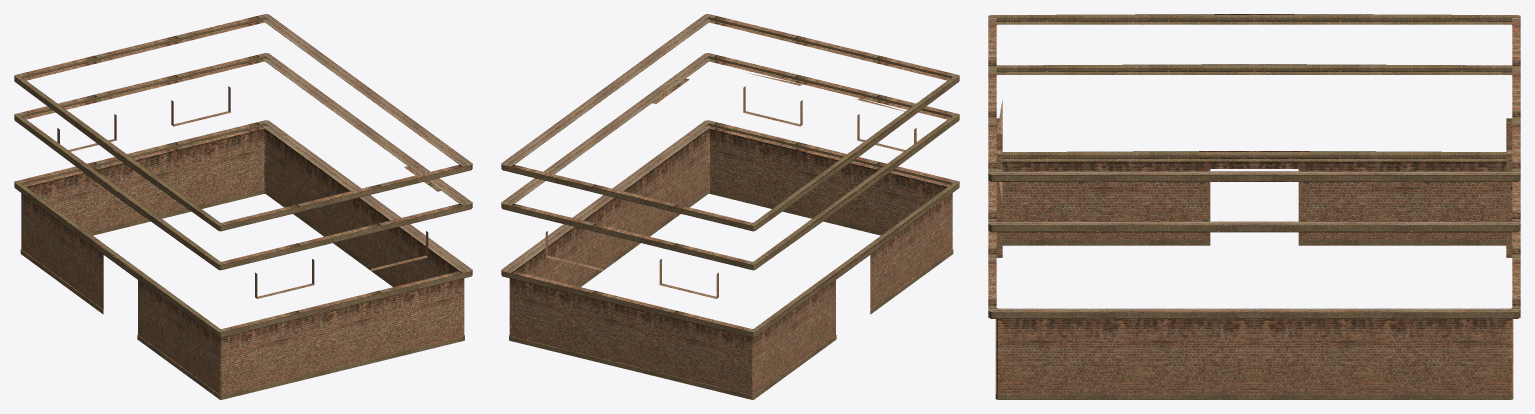
File: warehousebrickb_id_1_bricksmallbrown_dm_0_lev1.glb
3 renders of one model, left to right at view 1: azimuth 30°, elevation 25°; view 2: azimuth 150°, elevation 25°; view 3: azimuth 270°, elevation 25°, orthographic. The views are drawn at different scales.
Parts seen in each view (by area): view 1: warehousebrickb_id_1_bricksmallbrown_dm_0_lev1; view 2: warehousebrickb_id_1_bricksmallbrown_dm_0_lev1; view 3: warehousebrickb_id_1_bricksmallbrown_dm_0_lev1.
Part boxes in pixels (x1=…): warehousebrickb_id_1_bricksmallbrown_dm_0_lev1: x1=14, y1=14, x2=472, y2=399; warehousebrickb_id_1_bricksmallbrown_dm_0_lev1: x1=501, y1=14, x2=959, y2=399; warehousebrickb_id_1_bricksmallbrown_dm_0_lev1: x1=988, y1=14, x2=1520, y2=399.
Bounding box in the file's own units: 6.74 × 4.45 × 9.4.
Materials: 1 (1 with a texture image).
